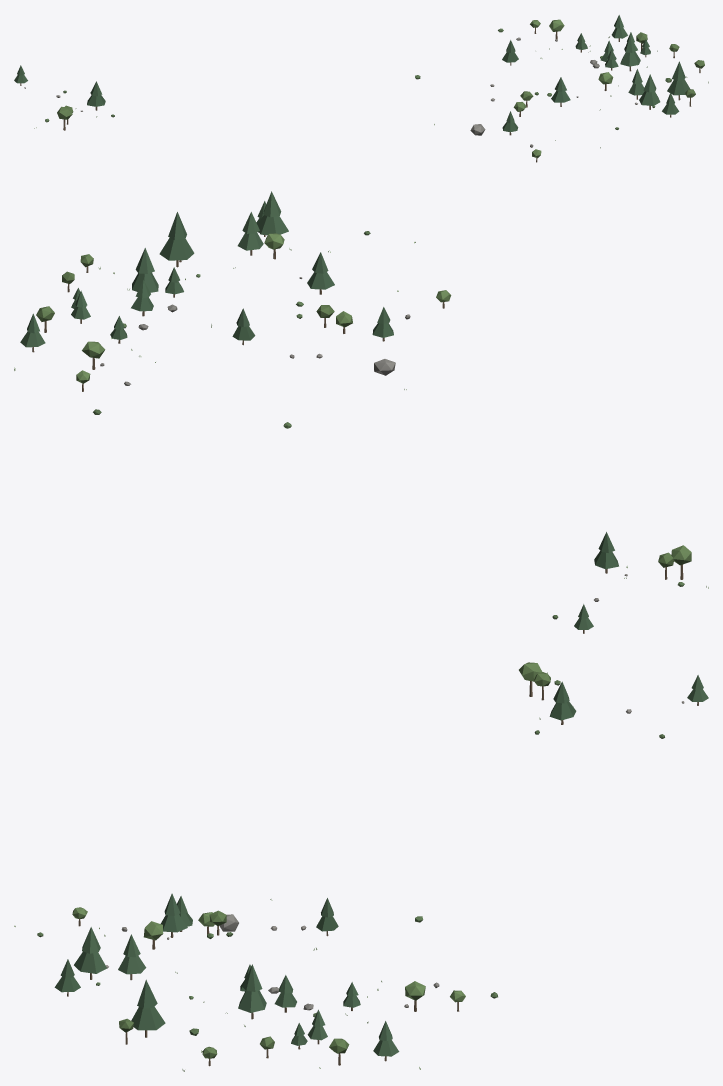
Rendered from arch_land_scatter_c19_18_lod1.glb.
3 renders of one model, top to bottom at view 1: azimuth 30°, elevation 25°; view 2: azimuth 150°, elevation 25°; view 3: azimuth 270°, elevation 25°, orthographic. The views are drawn at different scales.
Parts seen in each view (by area): view 1: arch_land_scatter_c19_18_lod1; view 2: arch_land_scatter_c19_18_lod1; view 3: arch_land_scatter_c19_18_lod1.
Boxes of the visible parts, x1,y1,x2,y2 form: arch_land_scatter_c19_18_lod1: (14,15,708,162); arch_land_scatter_c19_18_lod1: (14,191,708,633); arch_land_scatter_c19_18_lod1: (14,662,708,1071).
Bounding box in the file's own units: 243 × 27 × 178.
